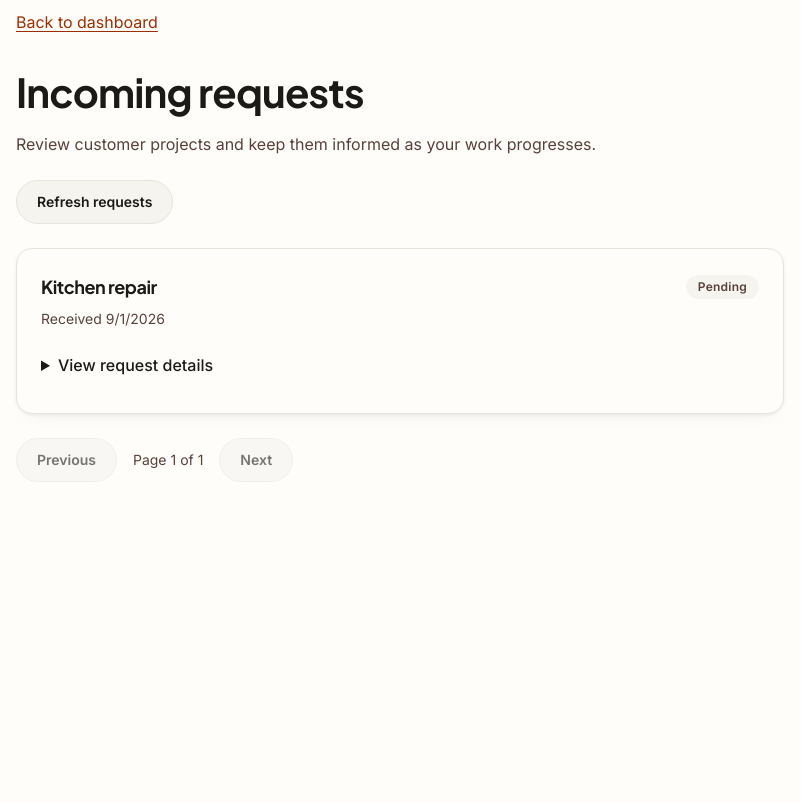
Test: loads authenticated, account-scoped requests, keeps deleted-service details and strips private extras
expect the heading "Kitchen repair" is shown: met, box [41,273,157,301]
Click the heading "View request details": click(410, 364) [58,354,762,375]
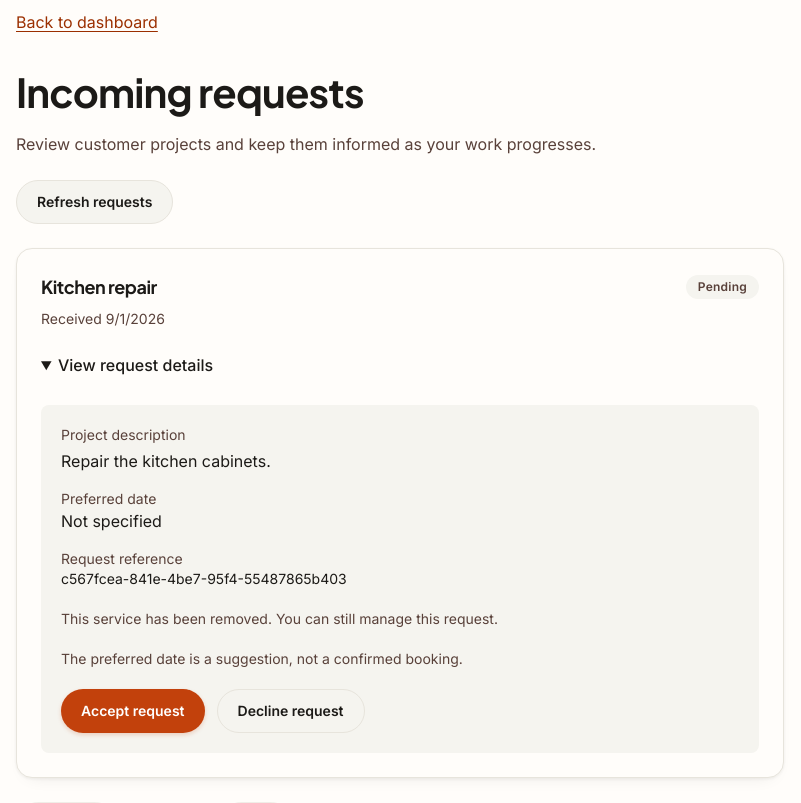
expect the text "Repair the kitchen cabinets." is shown: met, box [61,451,271,471]
expect the text "This service has been removed" is shown: met, box [61,610,498,627]
